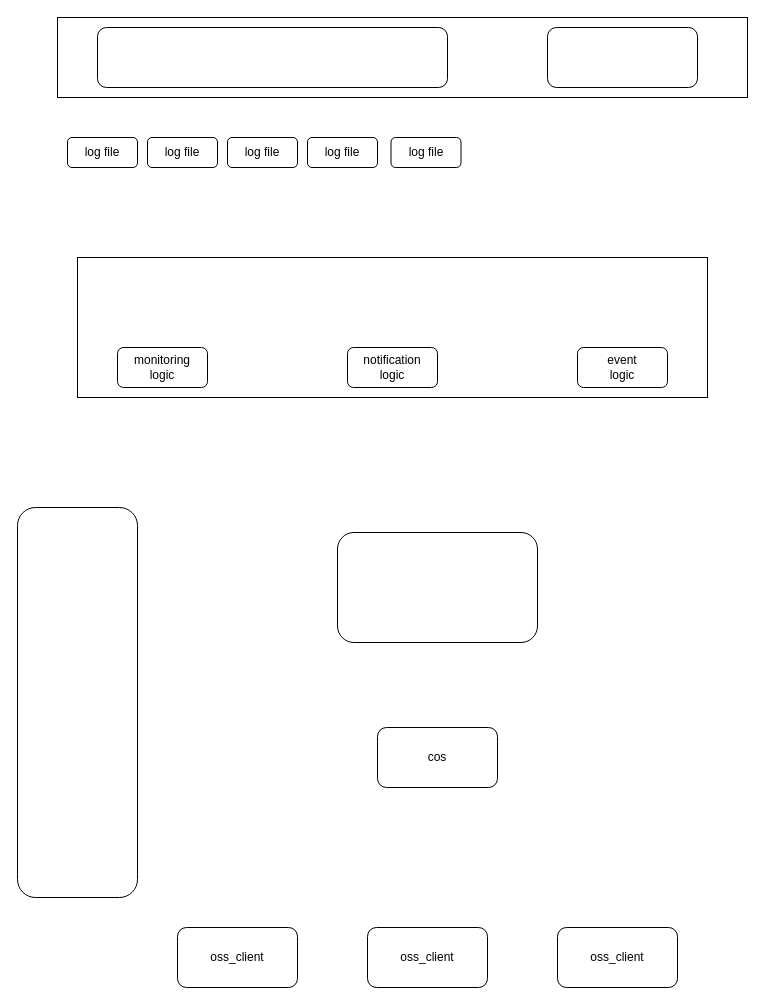
The diagram is 765 pixels wide and 1005 high, and some of its shapes have lost their labels. Each missing label, with the box of its shape:
data_del_server: (336, 532, 538, 642)
database: (16, 506, 138, 898)
external porgrams: (546, 26, 698, 88)
oss_server: (76, 256, 708, 398)
web interface: (96, 26, 448, 88)
